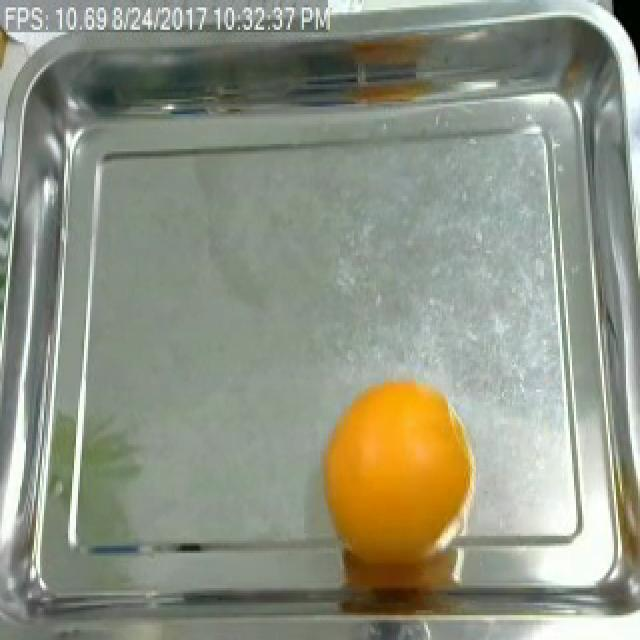Fruit: (314, 372, 478, 605)
